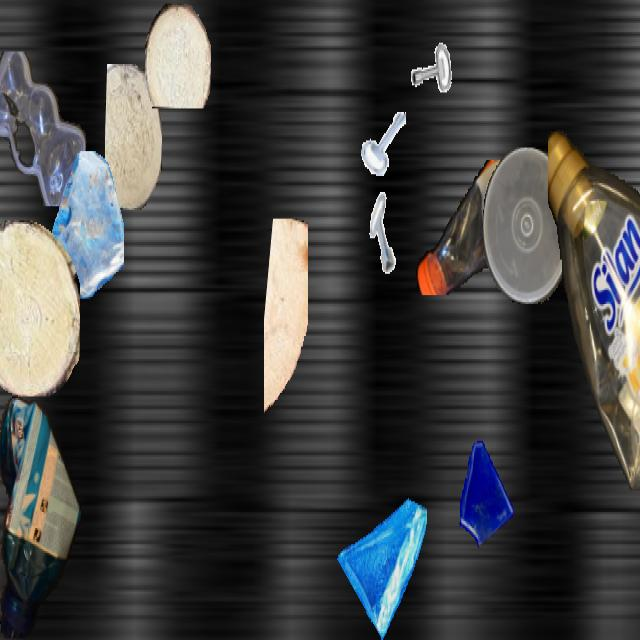glass: (336, 478, 426, 638), (41, 151, 123, 297), (454, 436, 516, 546)
metal: (399, 4, 455, 103), (362, 192, 408, 274), (361, 105, 405, 183)
plastic: (548, 117, 640, 491), (414, 160, 560, 295), (0, 393, 80, 638), (483, 148, 571, 304), (0, 52, 87, 205)
wood: (0, 220, 79, 394), (264, 219, 308, 425), (105, 64, 161, 210), (145, 3, 211, 106)
